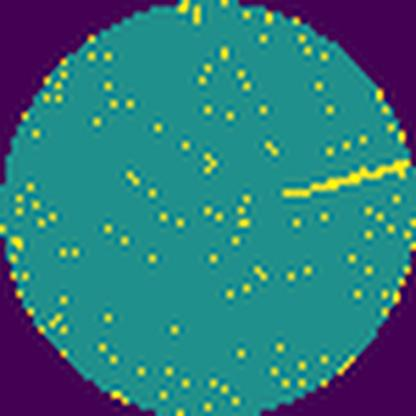Scratch: (279, 150, 412, 204)
